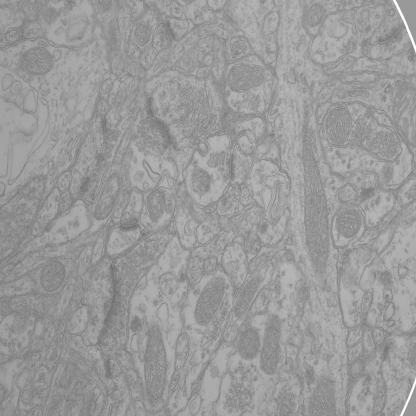mitochondria: (298, 106, 331, 272), (143, 322, 169, 408), (192, 274, 226, 329), (233, 271, 263, 320), (260, 313, 282, 378), (324, 103, 354, 147), (16, 44, 54, 78), (227, 61, 266, 94), (38, 258, 66, 293), (335, 206, 363, 238), (238, 323, 261, 359), (145, 186, 168, 221), (133, 20, 153, 47), (306, 1, 327, 26)
